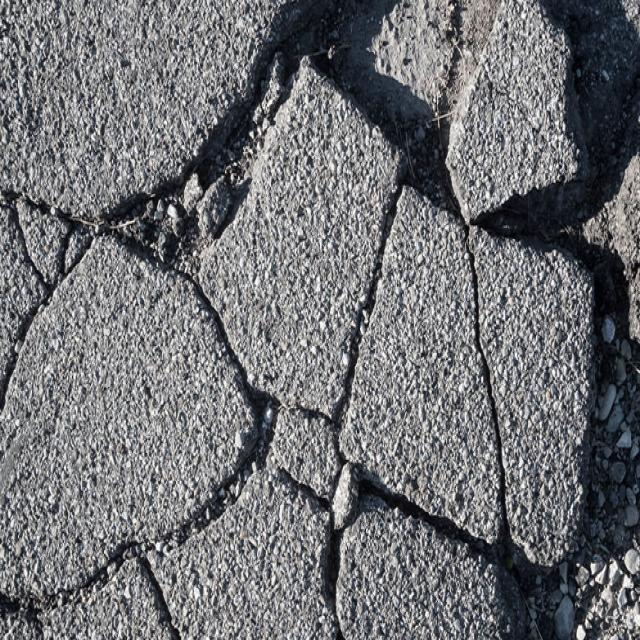Drain Hole: (100, 146, 640, 560)
